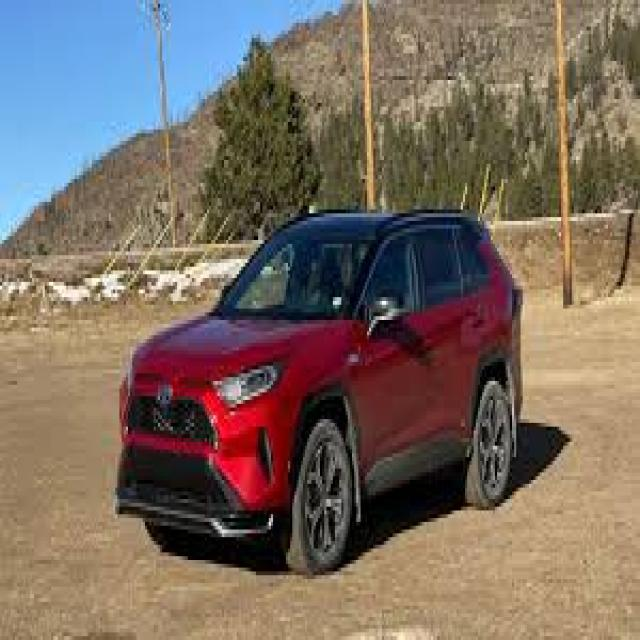light_vehicle: (113, 208, 525, 577)
